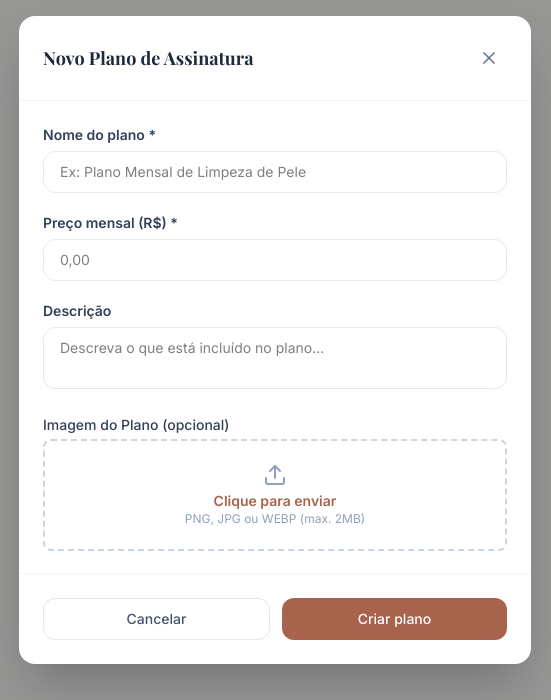
Scenario: components/SubscriptionPlanModal — validações client-side › bloqueia salvar com preço <= 0
Type "Plano X" into the field with placeholder "Ex: Plano Mensal de Limpeza de Pele".
click(275, 172); type("Plano X")  # box [43,151,507,193]
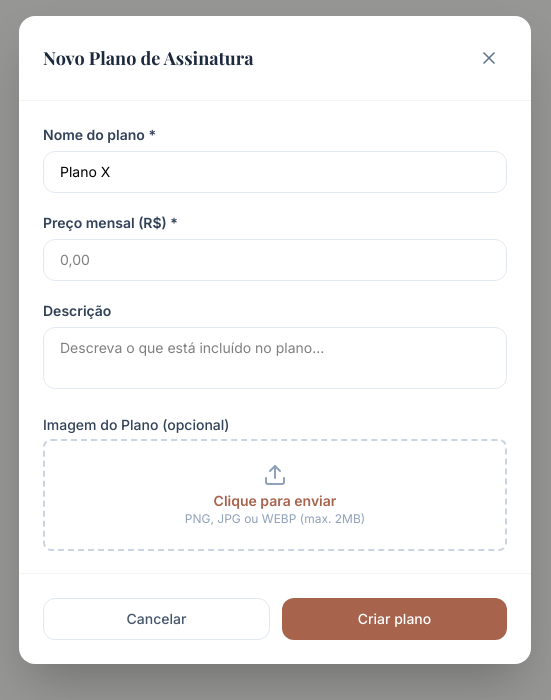
Type "0" into the number field with placeholder "0,00".
click(275, 260); type("0")  # box [43,239,507,281]
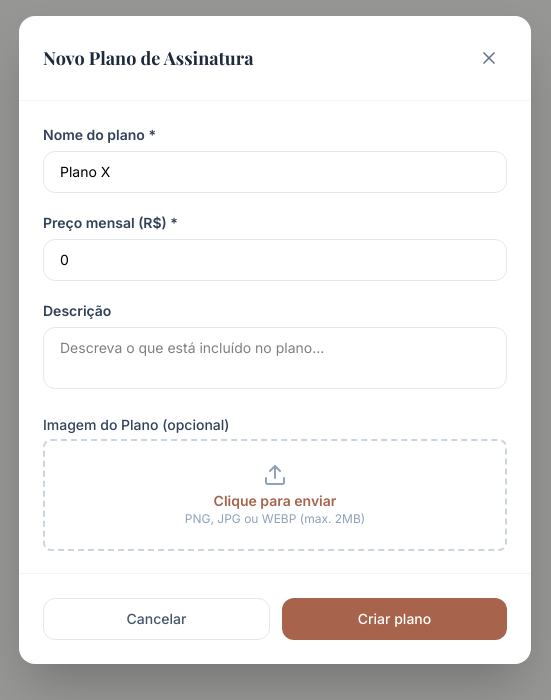
Click the button "Criar plano".
click(394, 619)  # box [282,598,507,640]
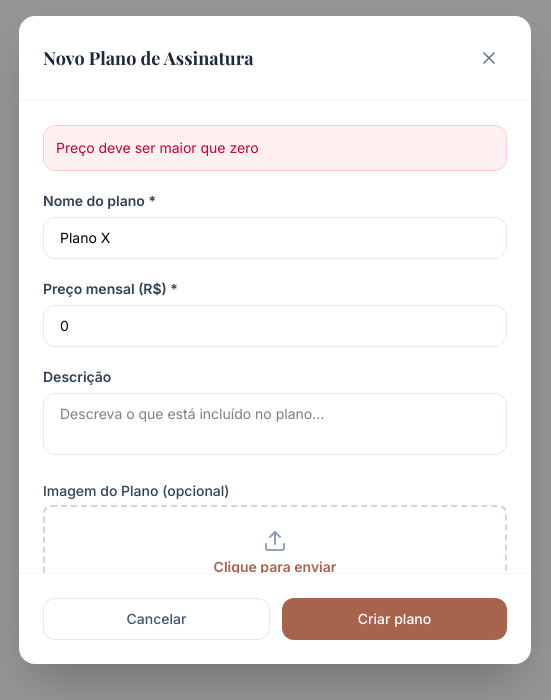
Result: the text "Preço deve ser maior que zero" is shown at [43,125,507,171]
